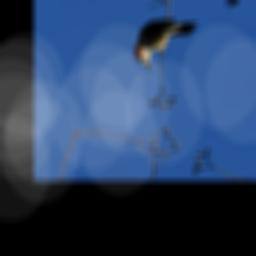Woodpecker: (118, 0, 210, 80)
